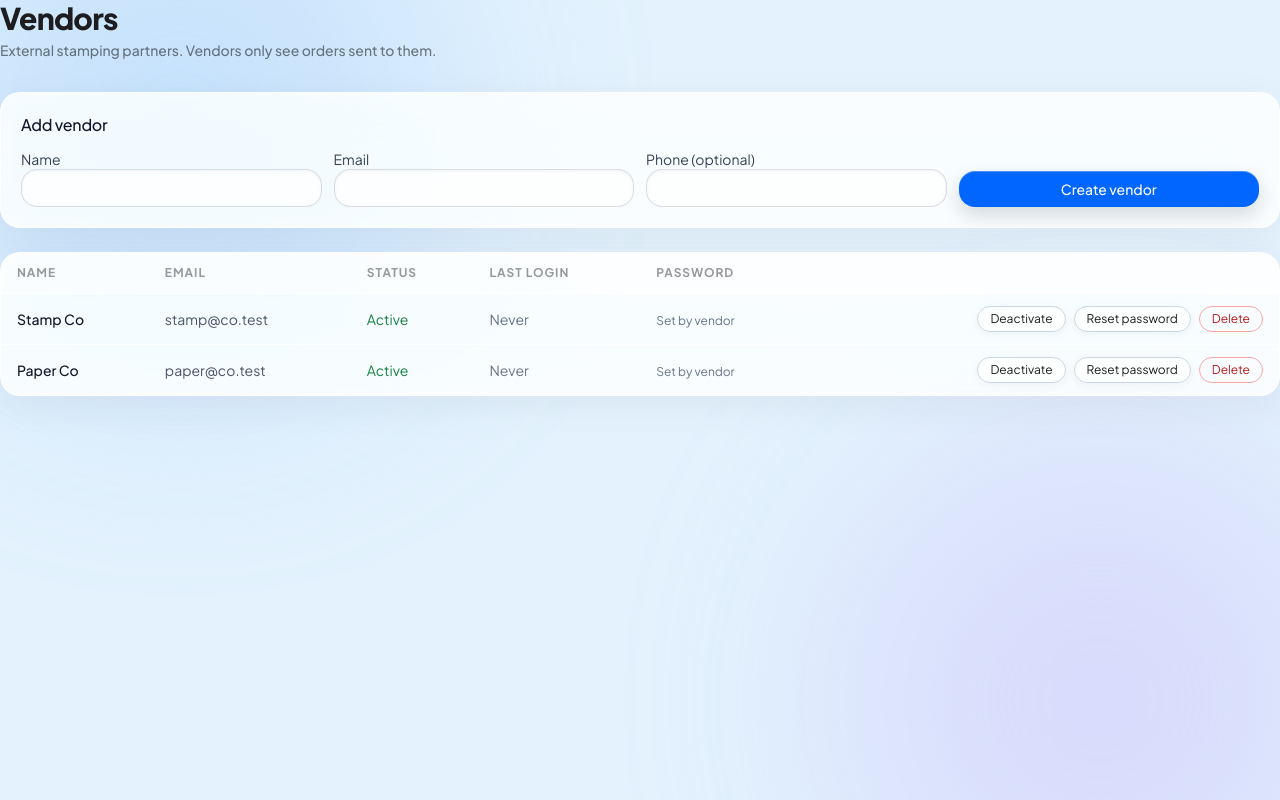
Delete vendor › requires the vendor's email; a wrong email blocks the delete
Click the button with aria-label "Delete Stamp Co": click(1231, 319) [1199,306,1263,332]
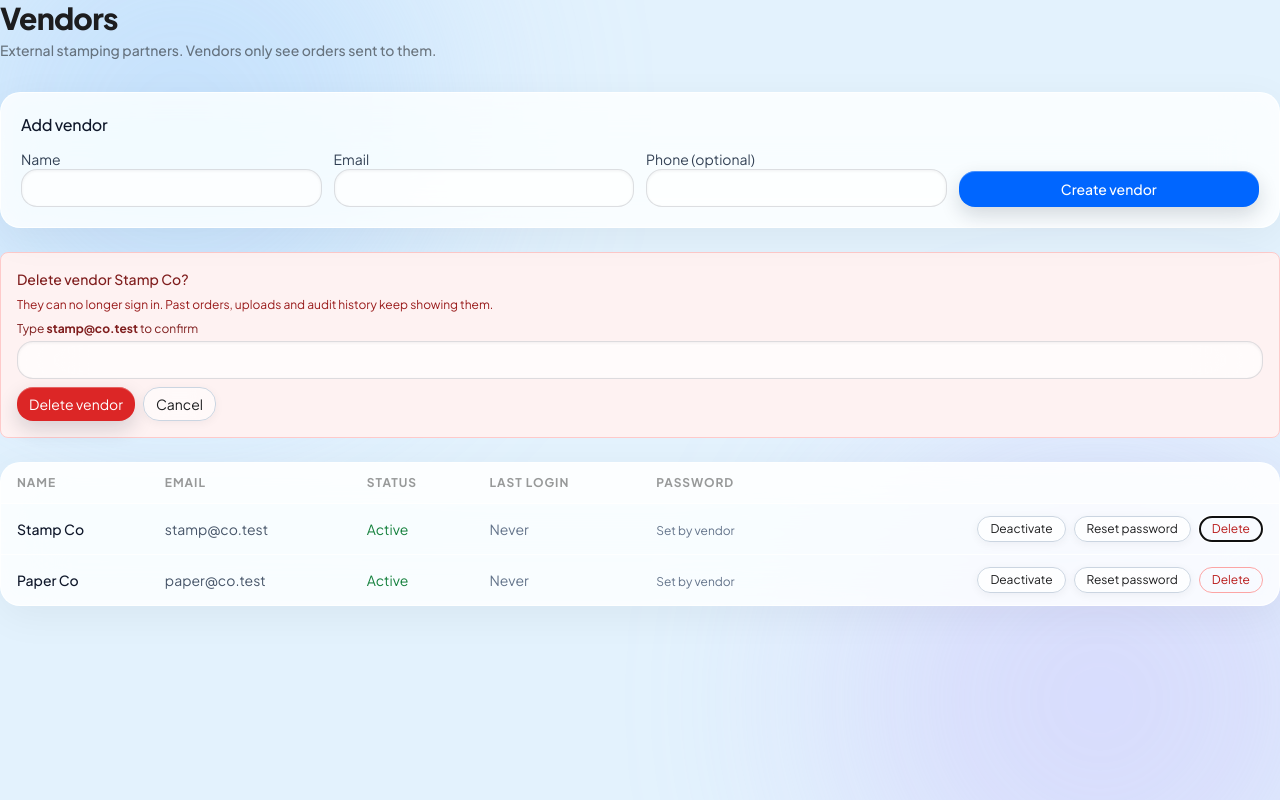
Expected: the dialog named "Delete Stamp Co" shows "stamp@co.test", [46,321,138,336]
In the field named "Vendor email to confirm": (640, 360) [17,341,1263,379], type "paper@co.test"
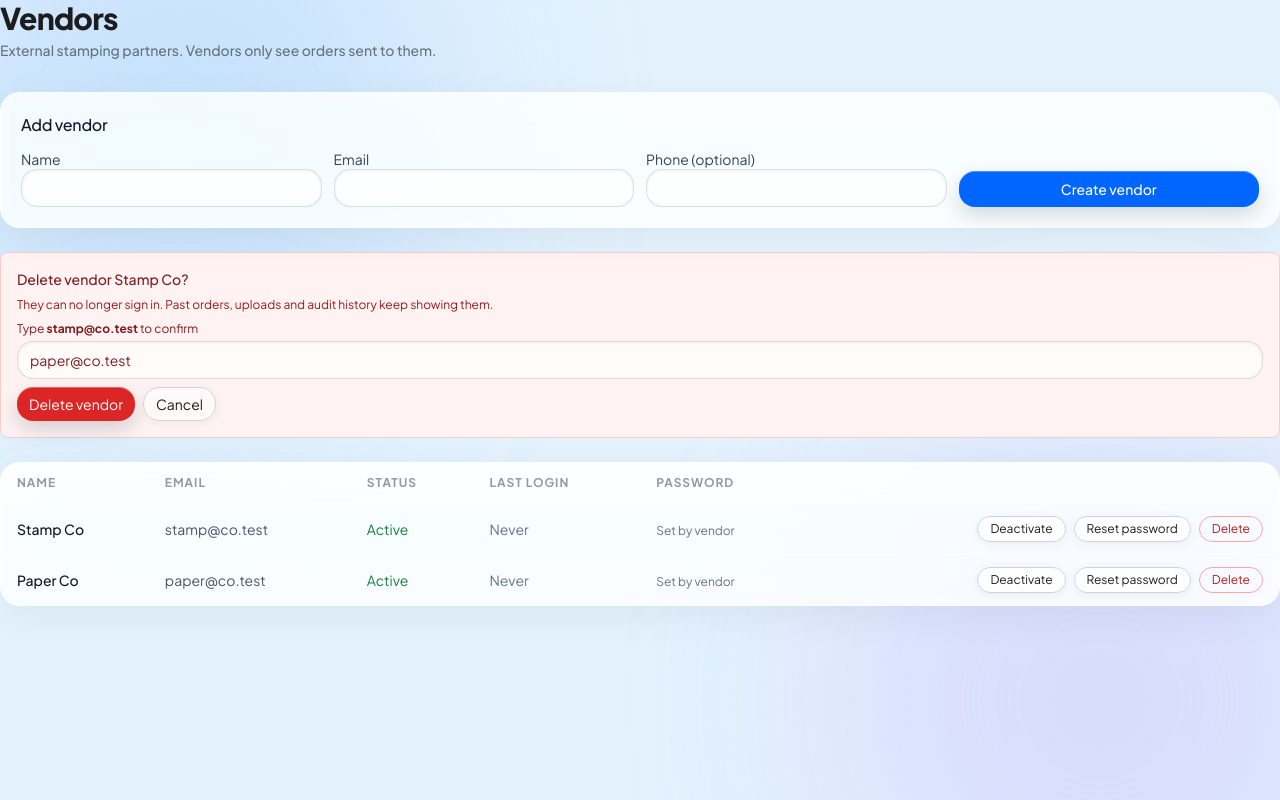
Click the button "Delete vendor": click(76, 404) [17,387,135,421]
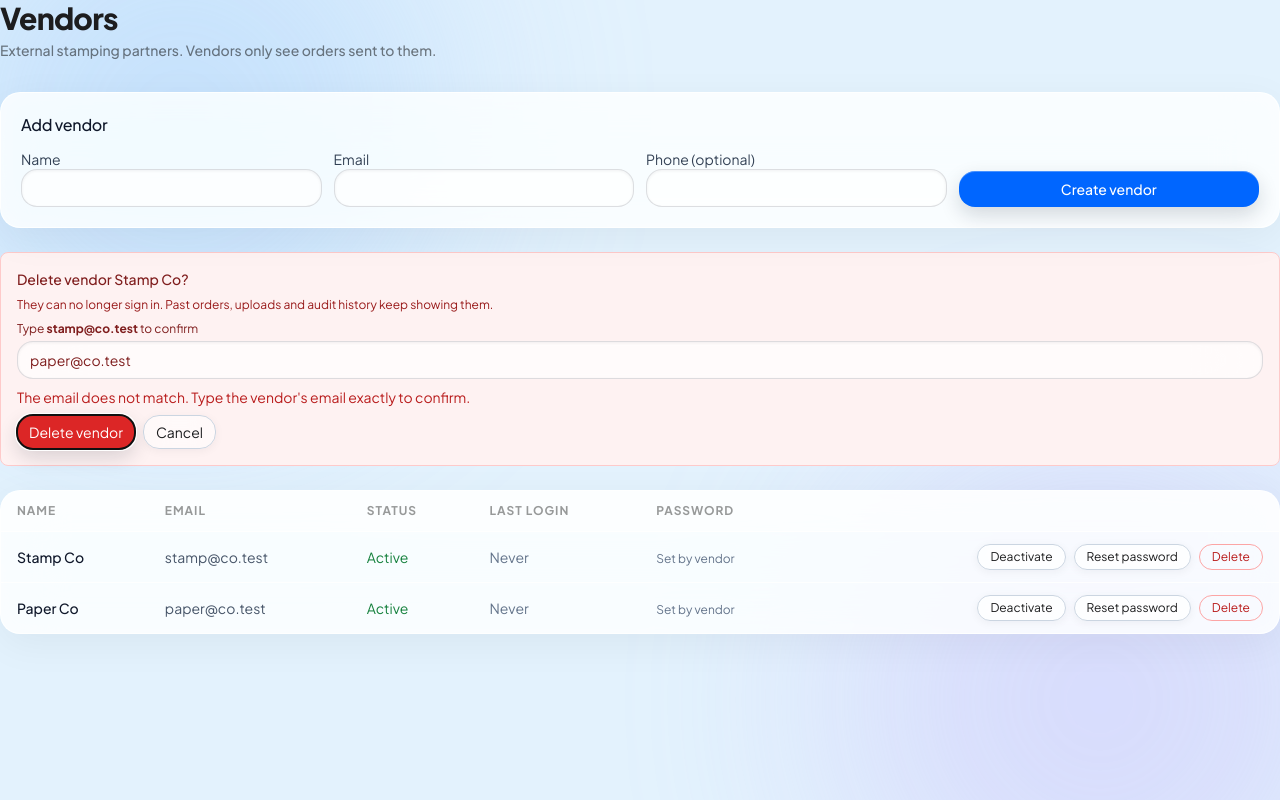
Expected: the message shows "The email does not match", [17,388,470,406]
